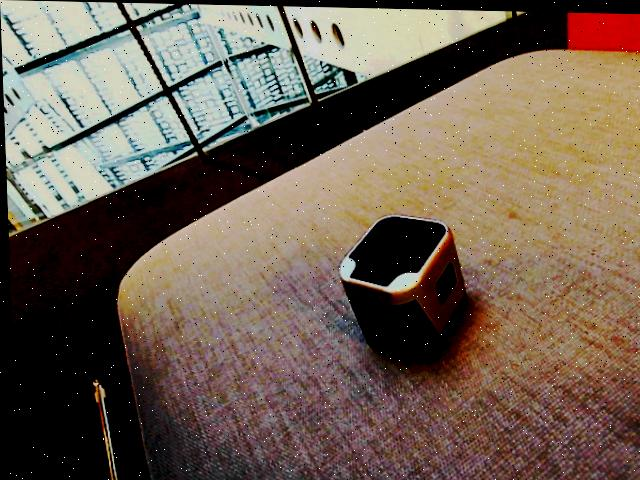adapter: (335, 210, 465, 358)
